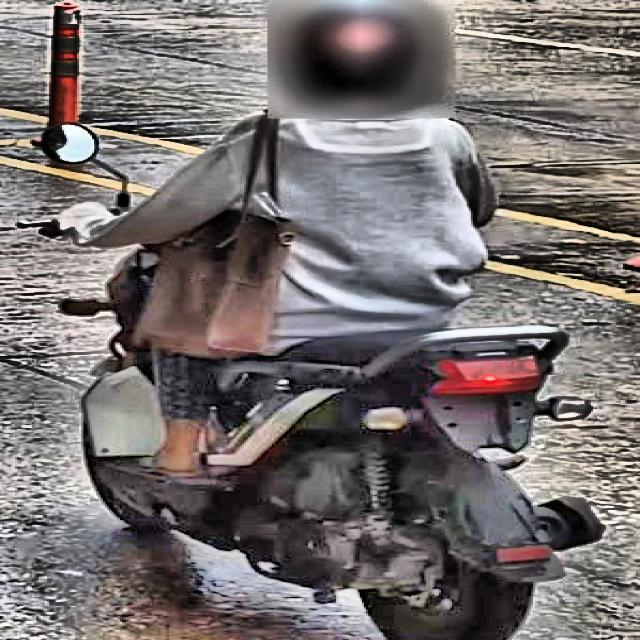motorcycle: (15, 119, 640, 640)
